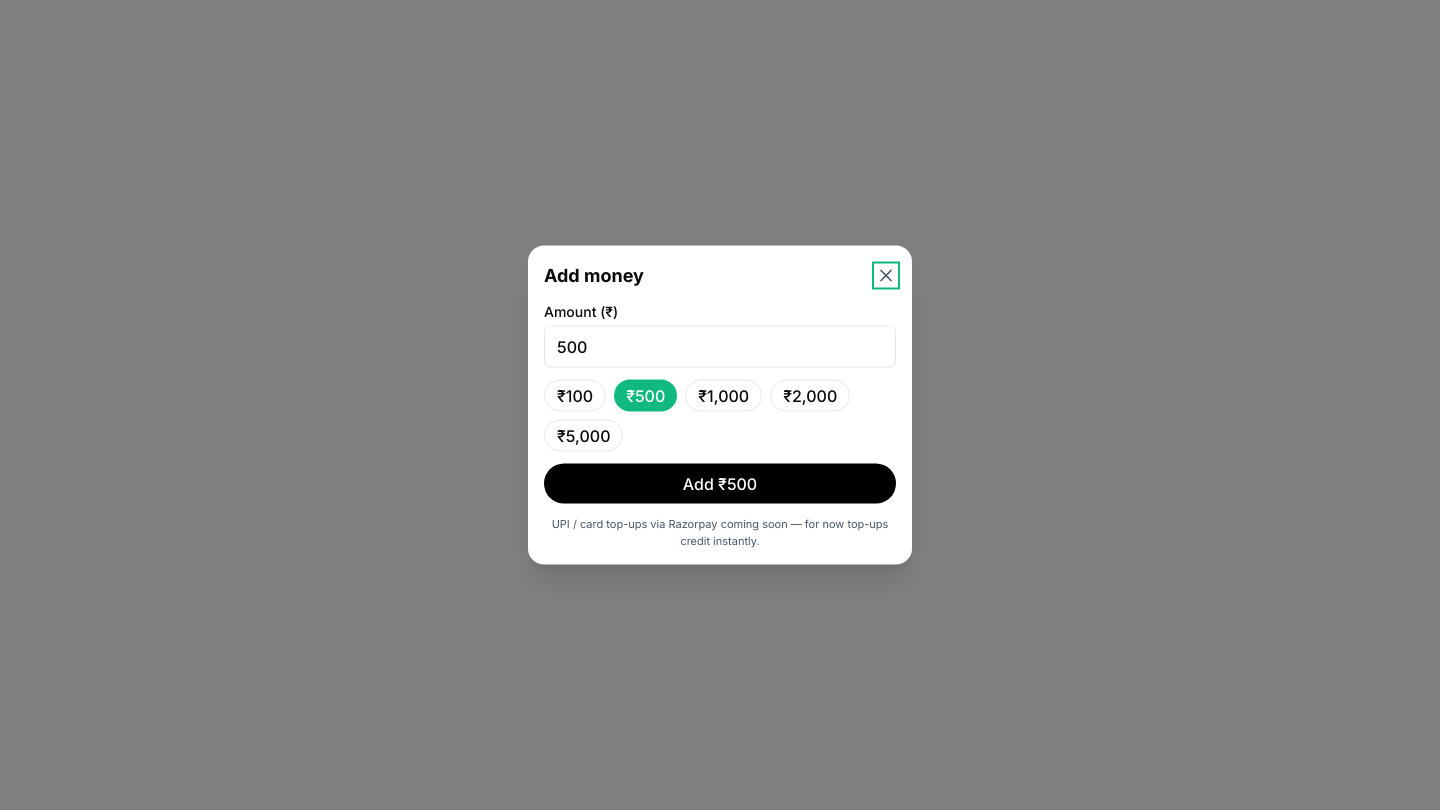
Test case: AddMoneyModal › preset chips set the amount + the confirm button label
Click the button "₹2,000".
click(810, 396)  # box [770,380,850,412]
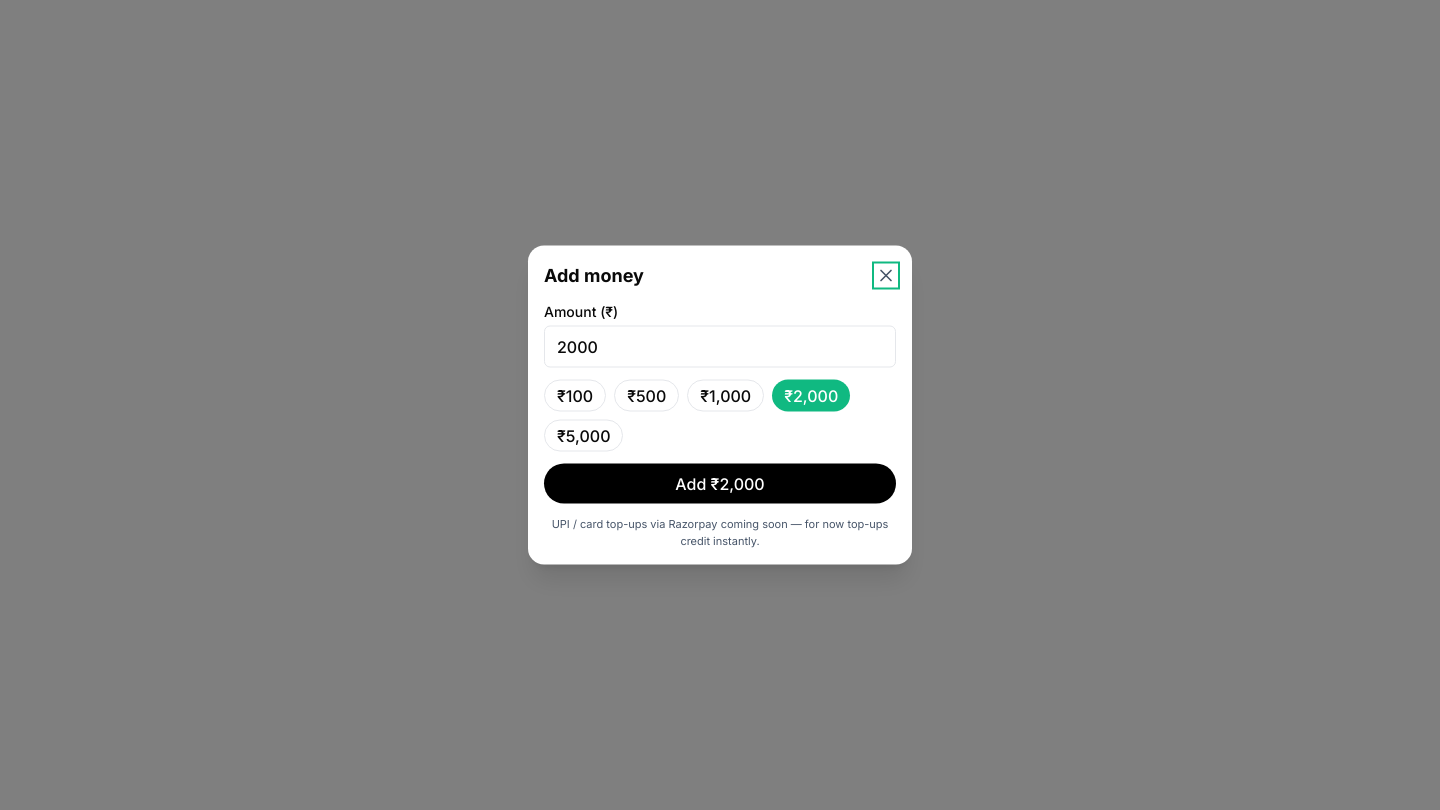
Expected: the button "Add ₹2,000" is shown, [544,464,896,504]
